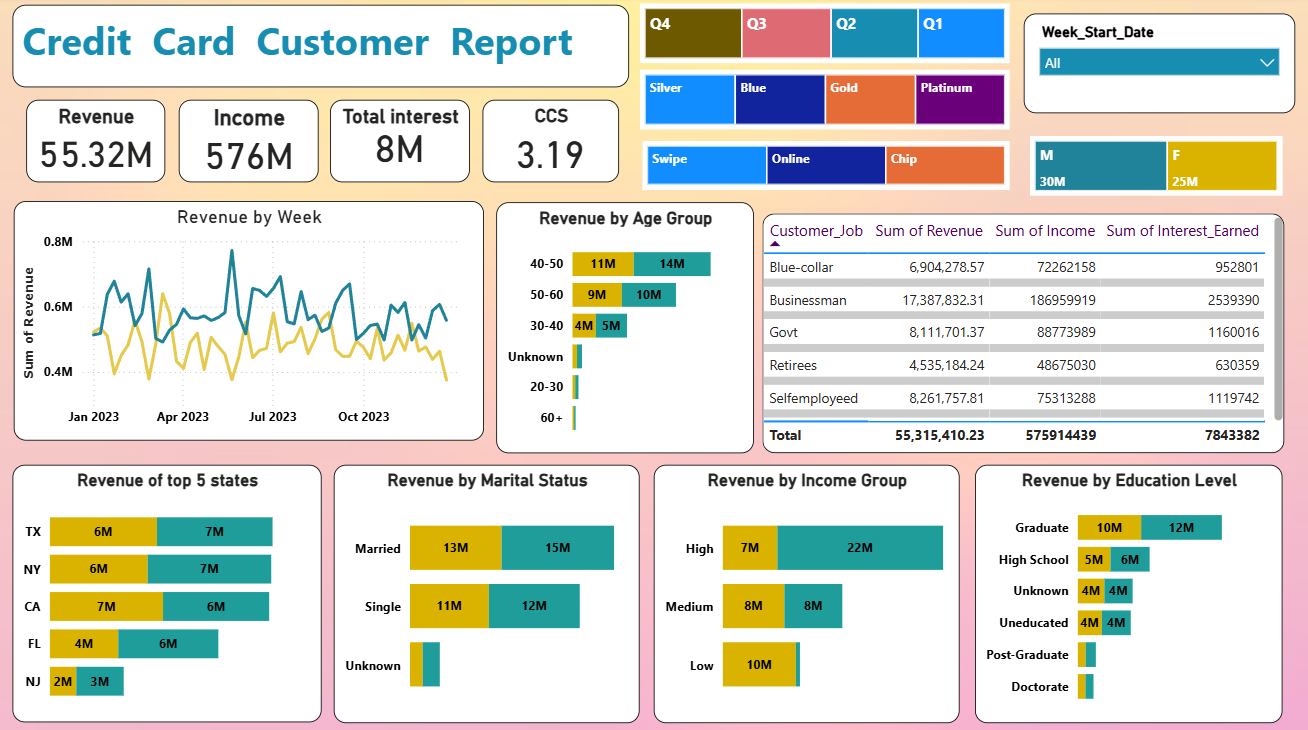

The dashboard page shown, as its layout file describes it:
{"tool":"powerbi","page":{"name":"Credit Card Customer","canvas":[1280,720],"ordinal":1},"visuals":[{"type":"textbox","box":[12.2,8.6,602.9,80.7],"z":0},{"type":"barChart","title":"Revenue by Income Group","fields":{"Y":["Sum(Public_cc_detail.Revenue)"],"Category":["Public_cust_detail.IncomeGroup"],"Series":["Public_cust_detail.Gender"]},"box":[639.5,458.3,299.1,252.5],"z":1000},{"type":"tableEx","fields":{"Values":["Public_cust_detail.Customer_Job","Sum(Public_cc_detail.Revenue)","Sum(Public_cust_detail.Income)","Sum(Public_cc_detail.Interest_Earned)"]},"box":[746.5,212.7,510.5,234.6],"z":2000},{"type":"card","title":"Revenue","fields":{"Values":["Sum(Public_cc_detail.Revenue)"]},"box":[25.7,101.5,135.7,80.7],"z":3000},{"type":"card","title":"Income","fields":{"Values":["Sum(Public_cust_detail.Income)"]},"box":[174.9,101.5,137,80.7],"z":4000},{"type":"card","title":"Total interest","fields":{"Values":["Sum(Public_cc_detail.Interest_Earned)"]},"box":[322.8,101.5,137,80.7],"z":5000},{"type":"card","title":"CCS","fields":{"Values":["Avg(Public_cust_detail.Cust_Satisfaction_Score)"]},"box":[472,101.5,133.3,80.7],"z":6000},{"type":"slicer","fields":{"Values":["Public_cc_detail.Week_Start_Date"]},"box":[1001.5,17.1,265.4,97.8],"z":7000},{"type":"treemap","title":"Count of Client Num by Qtr","fields":{"Group":["Public_cc_detail.Qtr"],"Values":["Avg(Public_cc_detail.ï»¿Client_Num)"]},"box":[626.1,7.3,362,58.7],"z":8000},{"type":"treemap","title":"Count of Client Num by Qtr","fields":{"Values":["Avg(Public_cc_detail.ï»¿Client_Num)"],"Group":["Public_cc_detail.Card_Category"]},"box":[626.1,72.1,362,58.7],"z":9000},{"type":"lineChart","title":" Revenue by Week","fields":{"Category":["Public_cc_detail.Week_Start_Date"],"Y":["Sum(Public_cc_detail.Revenue)"],"Series":["Public_cust_detail.Gender"]},"box":[13.7,200.3,459.7,234.6],"z":10000},{"type":"treemap","fields":{"Group":["Public_cust_detail.Gender"],"Values":["Sum(Public_cc_detail.Revenue)"]},"box":[1007.6,137,247,58.7],"z":11000},{"type":"barChart","title":"Revenue by Age Group","fields":{"Y":["Sum(Public_cc_detail.Revenue)"],"Category":["Public_cust_detail.AgeGroup"],"Series":["Public_cust_detail.Gender"]},"box":[485.5,201.8,251.9,245.8],"z":12000},{"type":"barChart","title":"Revenue by Marital Status","fields":{"Y":["Sum(Public_cc_detail.Revenue)"],"Category":["Public_cust_detail.Marital_Status"],"Series":["Public_cust_detail.Gender"]},"box":[326.6,458.3,299.1,252.5],"z":13000},{"type":"barChart","title":"Revenue by Education Level","fields":{"Y":["Sum(Public_cc_detail.Revenue)"],"Category":["Public_cust_detail.Education_Level"],"Series":["Public_cust_detail.Gender"]},"box":[953.7,458.3,300.5,252.5],"z":14000},{"type":"barChart","title":"Revenue of top 5 states","fields":{"Y":["Sum(Public_cc_detail.Revenue)"],"Category":["Public_cust_detail.state_cd"],"Series":["Public_cust_detail.Gender"]},"box":[12.2,458.6,302,251.9],"z":15000},{"type":"treemap","title":"Count of Client Num by Qtr","fields":{"Values":["Avg(Public_cc_detail.ï»¿Client_Num)"],"Group":["Public_cc_detail.Use Chip"]},"box":[628.5,141.8,359.5,47.7],"z":16000}]}

Visuals, with their boxes in screenshot pixels (x1, y1, x2, y2), scaled from the page's 1280x720 canvas onto the 1308x730 screenshot:
textbox: box=[12, 9, 629, 91]
"Revenue by Income Group" barChart: box=[653, 465, 959, 721]
tableEx - Public_cust_detail.Customer_Job x Sum(Public_cc_detail.Revenue): box=[763, 216, 1284, 454]
"Revenue" card: box=[26, 103, 165, 185]
"Income" card: box=[179, 103, 319, 185]
"Total interest" card: box=[330, 103, 470, 185]
"CCS" card: box=[482, 103, 619, 185]
slicer - Public_cc_detail.Week_Start_Date: box=[1023, 17, 1295, 116]
"Count of Client Num by Qtr" treemap: box=[640, 7, 1010, 67]
"Count of Client Num by Qtr" treemap: box=[640, 73, 1010, 133]
" Revenue by Week" lineChart: box=[14, 203, 484, 441]
treemap - Public_cust_detail.Gender x Sum(Public_cc_detail.Revenue): box=[1030, 139, 1282, 198]
"Revenue by Age Group" barChart: box=[496, 205, 754, 454]
"Revenue by Marital Status" barChart: box=[334, 465, 639, 721]
"Revenue by Education Level" barChart: box=[975, 465, 1282, 721]
"Revenue of top 5 states" barChart: box=[12, 465, 321, 720]
"Count of Client Num by Qtr" treemap: box=[642, 144, 1010, 192]
